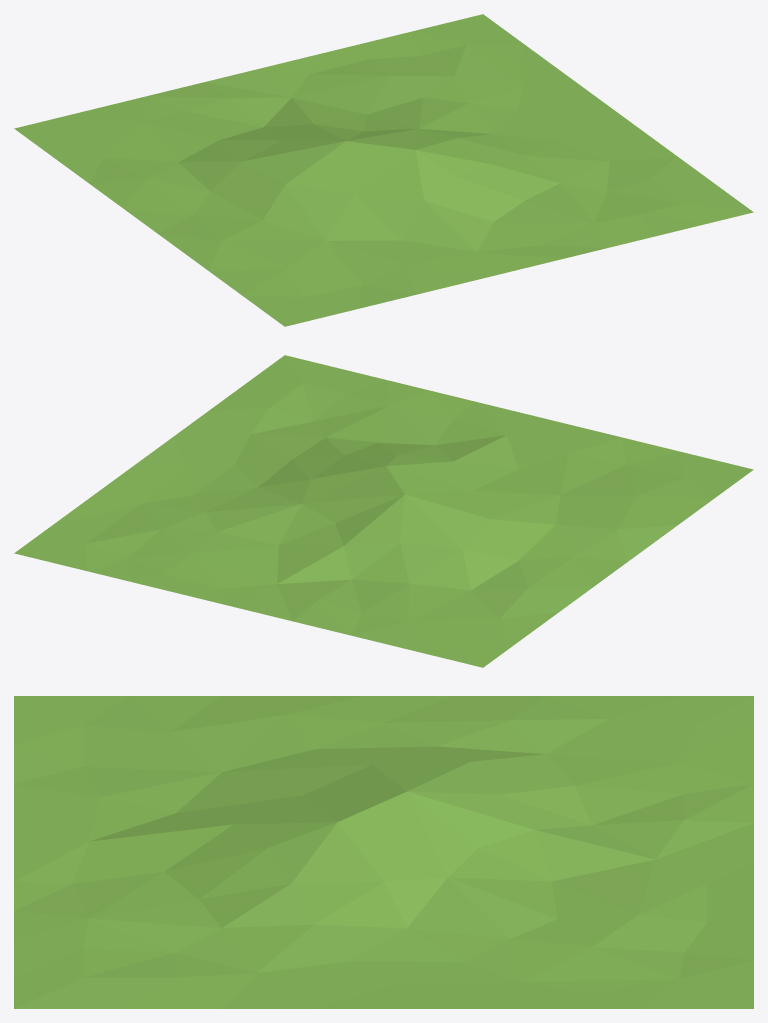
Rendered from MT_Terrain_S_a_07_LOD.fbx.
3 renders of one model, top to bottom at view 1: azimuth 30°, elevation 25°; view 2: azimuth 150°, elevation 25°; view 3: azimuth 270°, elevation 25°, orthographic. The views are drawn at different scales.
Parts seen in each view (by area): view 1: MT_Terrain_S_a_07_LOD0; view 2: MT_Terrain_S_a_07_LOD0; view 3: MT_Terrain_S_a_07_LOD0.
Boxes of the visible parts, x1,y1,x2,y2 form: MT_Terrain_S_a_07_LOD0: (14, 14, 753, 326); MT_Terrain_S_a_07_LOD0: (14, 355, 753, 667); MT_Terrain_S_a_07_LOD0: (14, 696, 753, 1008).
Size of what is drawn, in the model's own units: 2500 by 163 by 2500.
